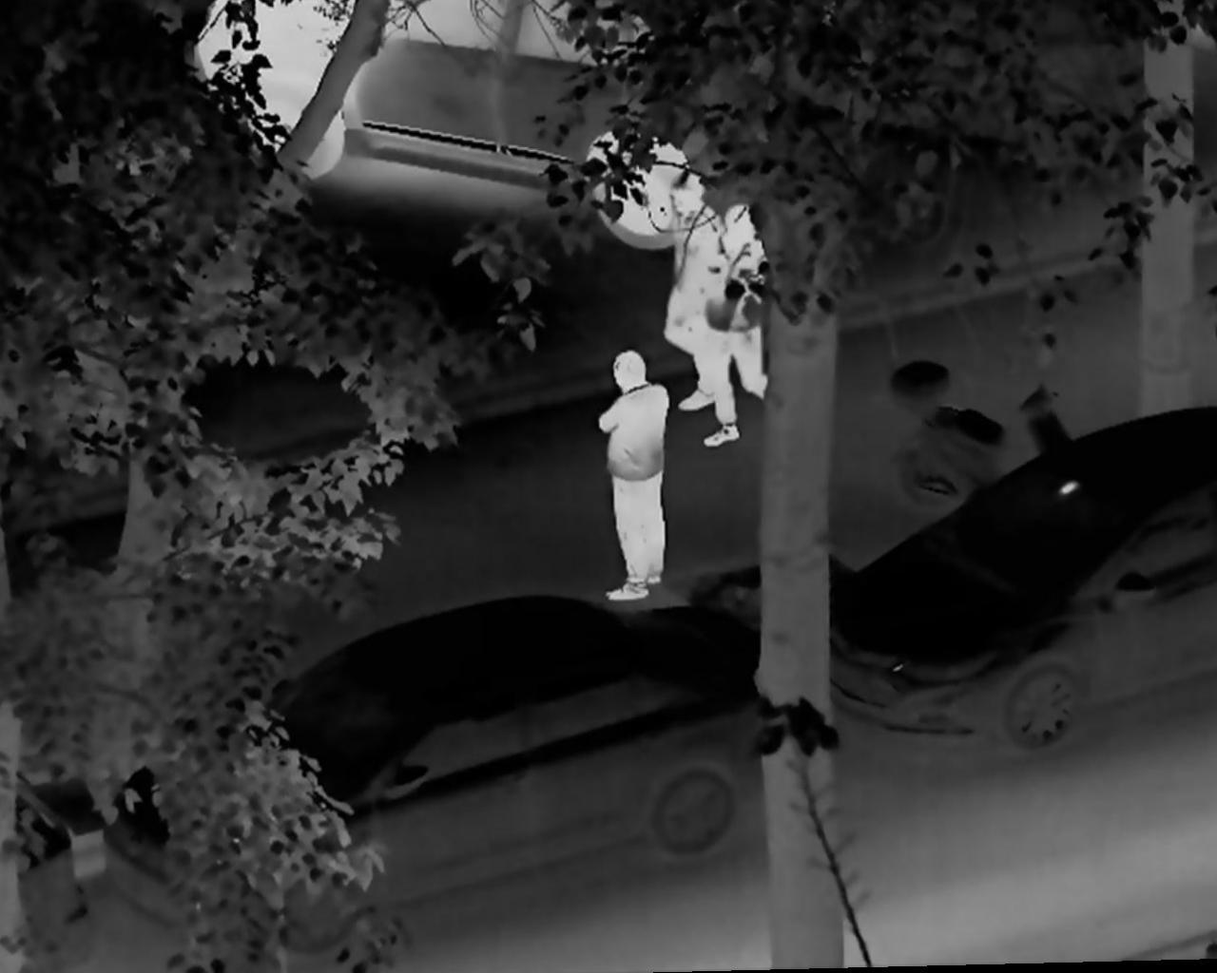person: (594, 351, 676, 603), (700, 195, 770, 448), (660, 172, 719, 411)
